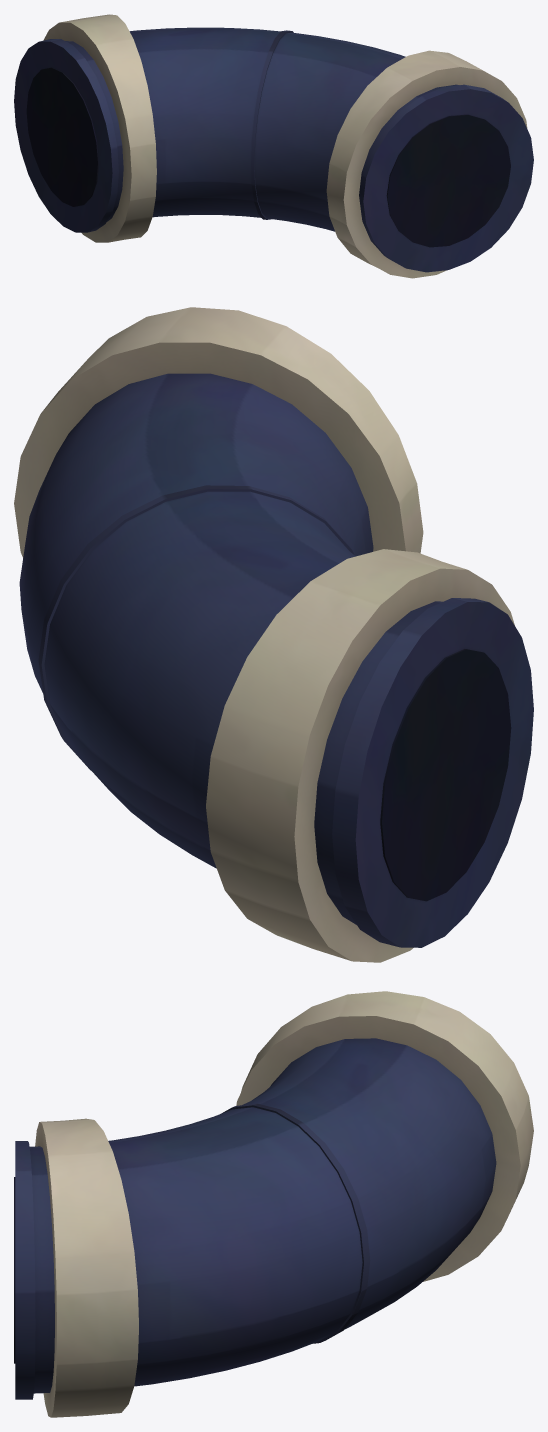
File: bg_claude_service_s04_elbow.glb
3 views of the same model, one above another, from view 1: azimuth 30°, elevation 25°; view 2: azimuth 150°, elevation 25°; view 3: azimuth 270°, elevation 25° (orthographic). The views are drawn at different scales.
Parts seen in each view (by area): view 1: elbow; view 2: elbow; view 3: elbow.
Part boxes in pixels (x1,y1,x2,y2): elbow: (14,14,533,278); elbow: (14,307,533,962); elbow: (14,991,533,1417).
Bounding box in the file's own units: 1.05 × 0.6 × 1.05.
Materials: 1 (1 with a texture image).
